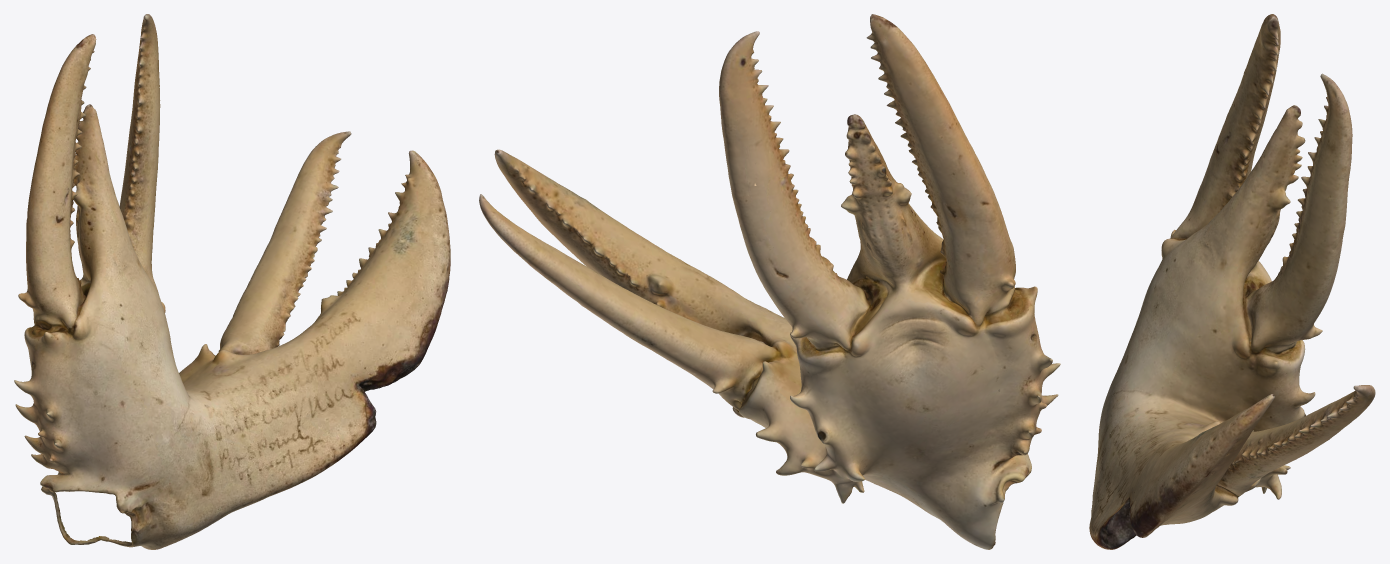
3 renders of one model, left to right at view 1: azimuth 30°, elevation 25°; view 2: azimuth 150°, elevation 25°; view 3: azimuth 270°, elevation 25°, orthographic. The views are drawn at different scales.
Parts seen in each view (by area): view 1: orientacao; view 2: orientacao; view 3: orientacao.
Boxes of the visible parts, x1,y1,x2,y2 form: orientacao: [14, 14, 450, 549]; orientacao: [479, 14, 1060, 549]; orientacao: [1089, 14, 1375, 549].
Bounding box in the file's own units: 4857 × 4915 × 2492.
Materials: 1 (1 with a texture image).
